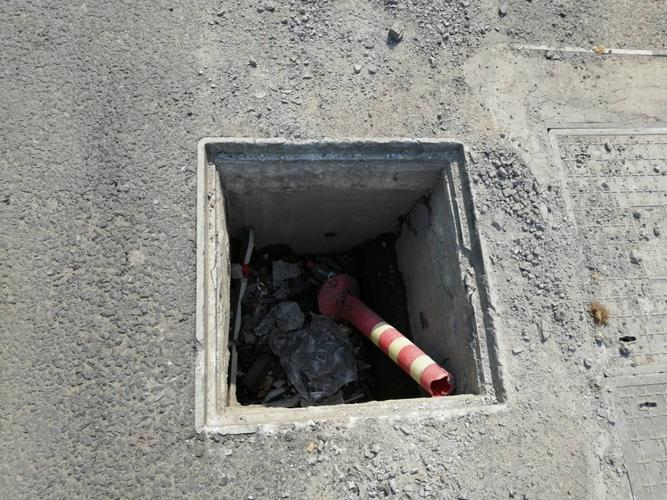lose: (168, 113, 518, 433)
